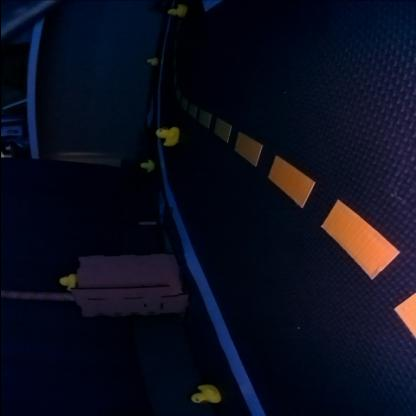Duckie: (189, 385, 219, 405), (154, 129, 176, 147), (166, 5, 186, 18), (57, 276, 73, 290), (138, 162, 150, 172), (146, 60, 154, 66)
